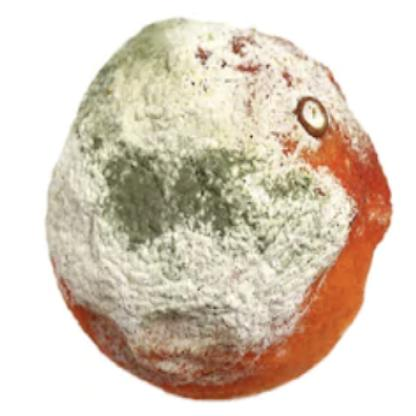rotten: (49, 17, 391, 399)
